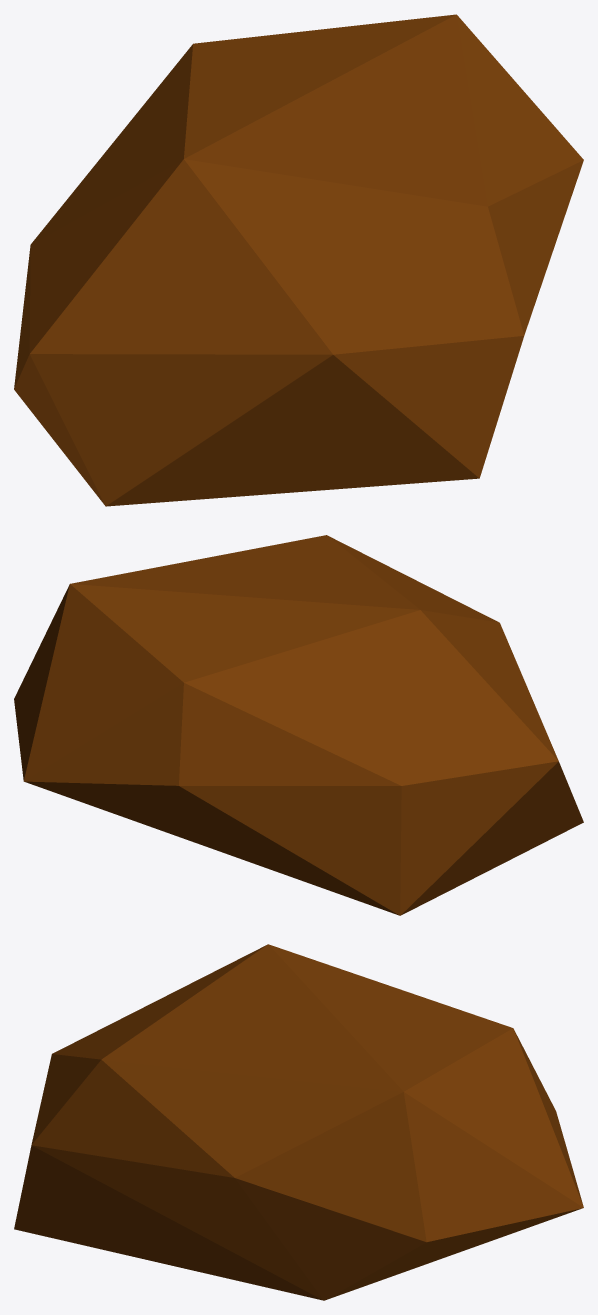
File: Rock_06.fbx
The picture shows the model from 3 angles, top to bottom: view 1: azimuth 30°, elevation 25°; view 2: azimuth 150°, elevation 25°; view 3: azimuth 270°, elevation 25°; orthographic projection. The views are drawn at different scales.
Parts seen in each view (by area): view 1: Rock_06; view 2: Rock_06; view 3: Rock_06.
Part boxes in pixels (bbox=[...]): Rock_06: bbox=[14, 14, 583, 506]; Rock_06: bbox=[14, 535, 583, 915]; Rock_06: bbox=[14, 944, 583, 1300].
Size of the model in its own units: 1243 by 601 by 1232.
